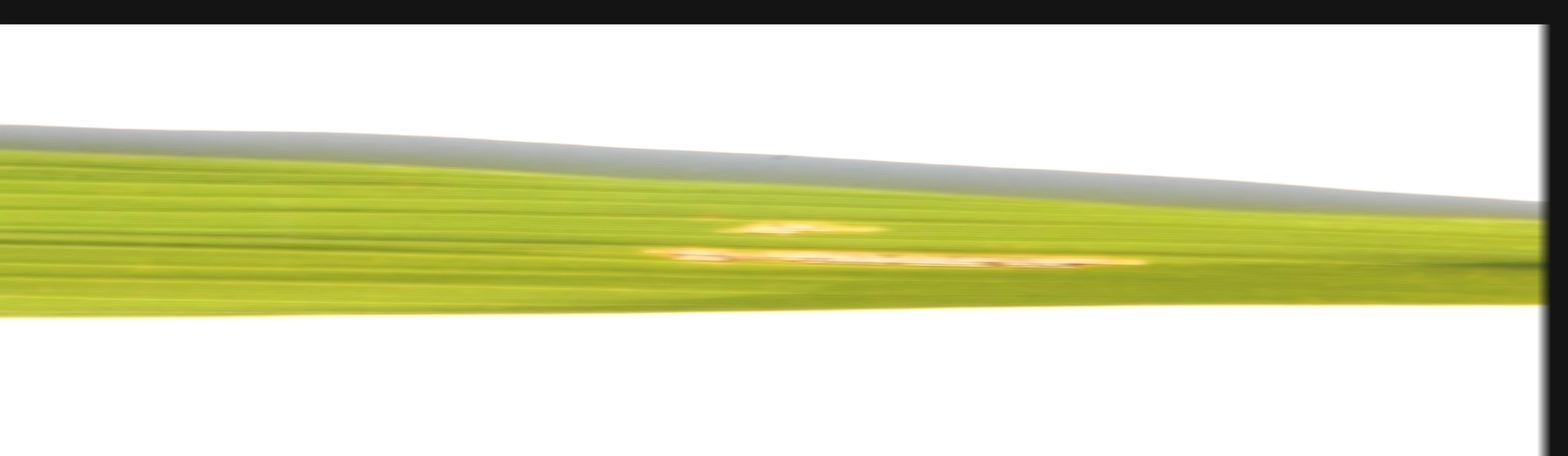Leaf_Blast: (596, 185, 1200, 283)
